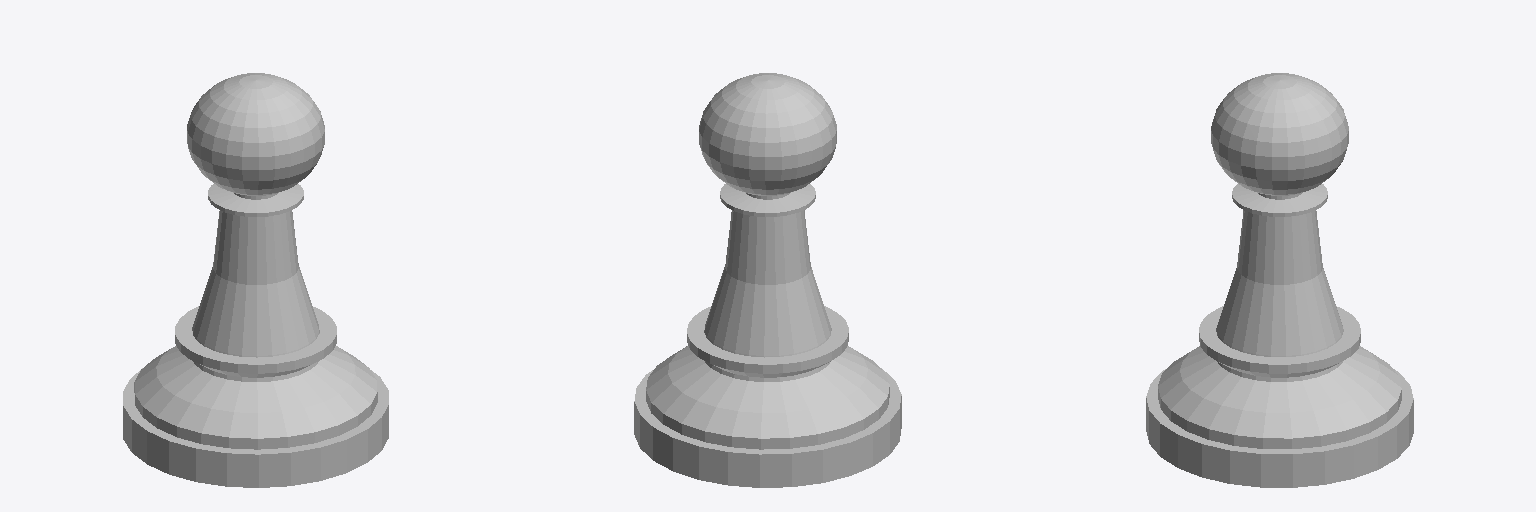
Rendered from pawn_black.obj.
The picture shows the model from 3 angles: view 1: azimuth 30°, elevation 25°; view 2: azimuth 150°, elevation 25°; view 3: azimuth 270°, elevation 25°; orthographic projection.
Visible parts, largest first — view 1: pawn_black_pawn.001; view 2: pawn_black_pawn.001; view 3: pawn_black_pawn.001.
Boxes of the visible parts, x1=… form: pawn_black_pawn.001: x1=123, y1=73, x2=388, y2=487; pawn_black_pawn.001: x1=634, y1=73, x2=901, y2=487; pawn_black_pawn.001: x1=1146, y1=73, x2=1413, y2=487.
Size of the model in its own units: 3.19 by 4.64 by 3.21.